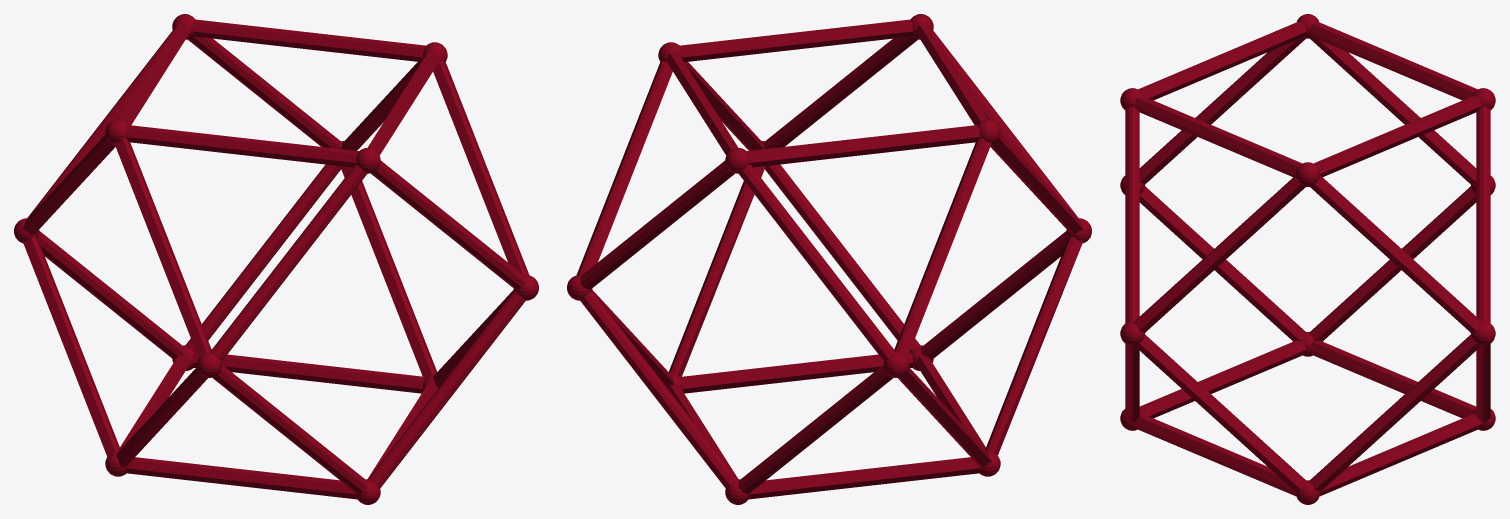
3 renders of one model, left to right at view 1: azimuth 30°, elevation 25°; view 2: azimuth 150°, elevation 25°; view 3: azimuth 270°, elevation 25°, orthographic. The views are drawn at different scales.
Parts seen in each view (by area): view 1: node_id3; view 2: node_id3; view 3: node_id3.
Part boxes in pixels (left/top/right/bottom): node_id3: left=14, top=14, right=538, bottom=504; node_id3: left=567, top=14, right=1091, bottom=504; node_id3: left=1120, top=14, right=1495, bottom=504.
Size of the model in its own units: 2.56 by 2.56 by 2.56.
1 material, 1 textured.
